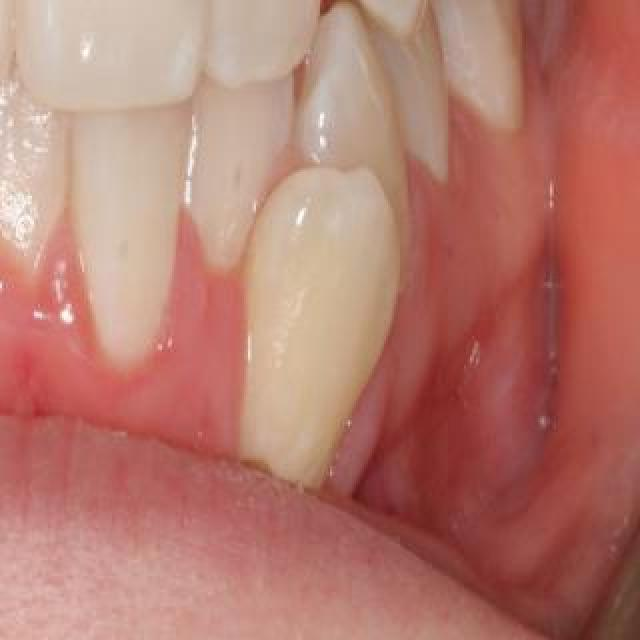maligned: (261, 168, 437, 492), (278, 0, 426, 246), (322, 0, 462, 44)
